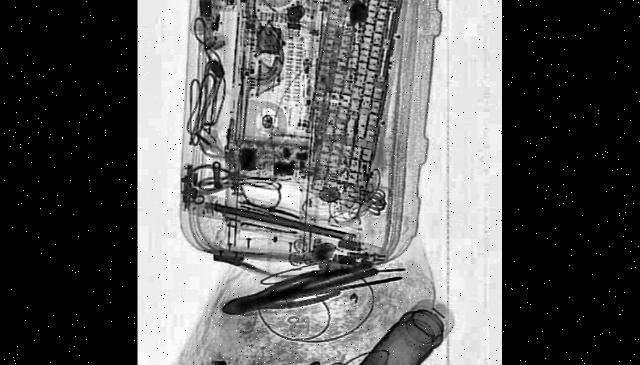Pliers: (224, 255, 374, 328)
